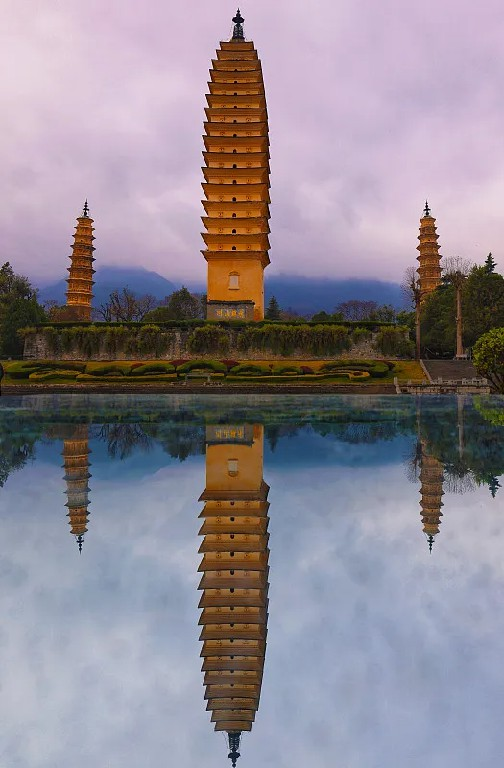ThreePagoda: (201, 7, 272, 321)
